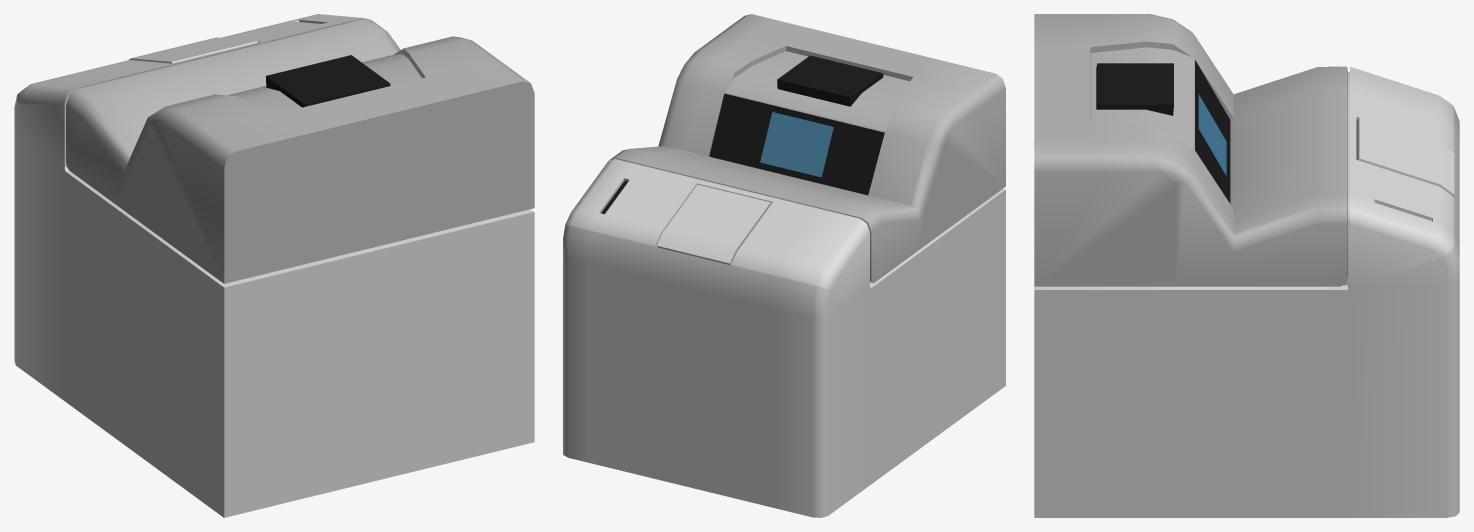
3 renders of one model, left to right at view 1: azimuth 30°, elevation 25°; view 2: azimuth 150°, elevation 25°; view 3: azimuth 270°, elevation 25°, orthographic. The views are drawn at different scales.
Parts seen in each view (by area): view 1: Cube; view 2: Cube; view 3: Cube.
Boxes of the visible parts, <box> form: Cube: <box>14,14,534,517</box>; Cube: <box>563,14,1005,517</box>; Cube: <box>1034,14,1459,517</box>.
Bounding box in the file's own units: 50 × 56 × 60.
